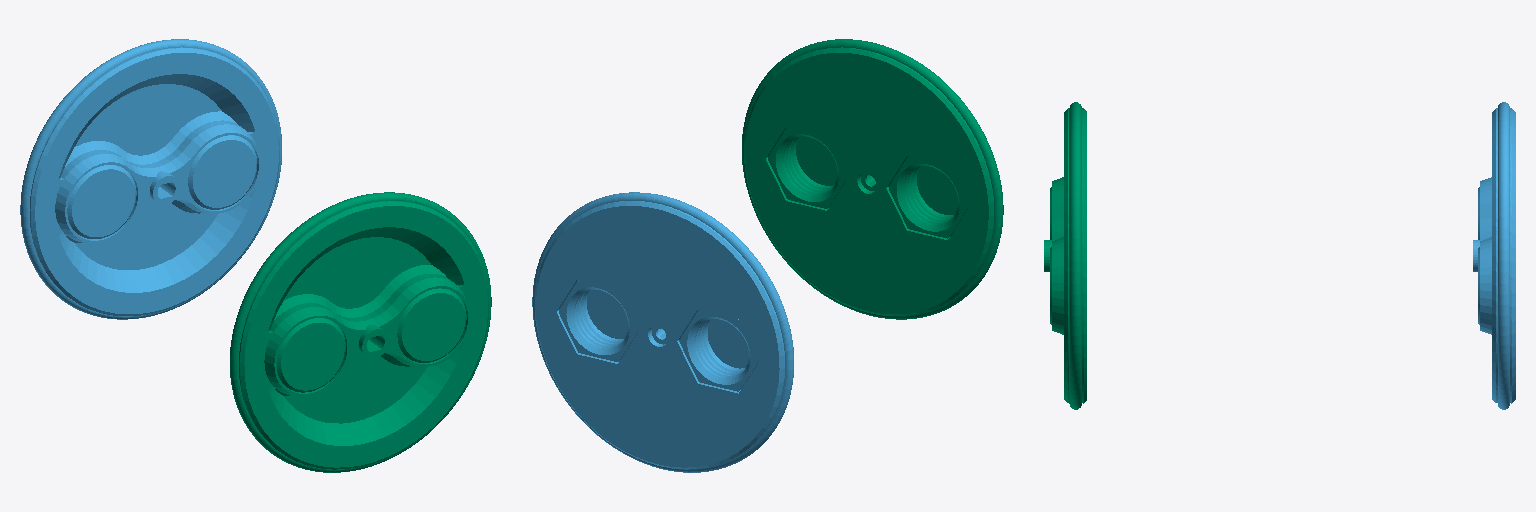
URDF robot description (golem):
<?xml version="1.0"?>
<robot name="golem">

    <link name="base_link">
        <inertial>
            <origin xyz="0 0 0" rpy="0 0 0"/>
            <mass value="0.01" />
            <inertia ixx="7.58333333333e-06" ixy="0.0" ixz="0.0" iyy="7.58333333333e-06" iyz="0.0" izz="1.25e-05"/>
        </inertial>
        <collision>
            <origin rpy="0 0 0" xyz="0 0 0"/>
            <geometry>
                <mesh filename="package://golem_description/models/golembase.dae"/>
            </geometry>
        </collision>
        <visual>
            <origin rpy="0 0 0" xyz="0 0 0"/>
            <geometry>
                <mesh filename="package://golem_description/models/golembase.dae"/>
            </geometry>
        </visual>
    </link>

    <link name="wheel_r1">
        <inertial>
            <origin xyz="0 0 0" rpy="0 0 0"/>
            <mass value="0.01" />
            <inertia ixx="7.58333333333e-06" ixy="0.0" ixz="0.0" iyy="7.58333333333e-06" iyz="0.0" izz="1.25e-05"/>
        </inertial>
        <collision>
            <origin rpy="0 0 0" xyz="0 0 0"/>
            <geometry>
                <mesh filename="package://golem_description/models/llanta2.dae"/>
            </geometry>
        </collision>
        <visual>
            <origin rpy="0 0 0" xyz="0 0 0"/>
            <geometry>
                <mesh filename="package://golem_description/models/llanta2.dae"/>
            </geometry>
        </visual>
    </link>

    <link name="wheel_l1">
        <inertial>
            <origin xyz="0 0 0" rpy="0 0 0"/>
            <mass value="0.01" />
            <inertia ixx="7.58333333333e-06" ixy="0.0" ixz="0.0" iyy="7.58333333333e-06" iyz="0.0" izz="1.25e-05"/>
        </inertial>
        <collision>
            <origin rpy="0 0 0" xyz="0 0 0"/>
            <geometry>
                <mesh filename="package://golem_description/models/llanta2.dae"/>
            </geometry>
        </collision>
        <visual>
            <origin rpy="0 0 0" xyz="0 0 0"/>
            <geometry>
                <mesh filename="package://golem_description/models/llanta2.dae"/>
            </geometry>
        </visual>
    </link>

    <joint name="motor1" type="continuous">
        <parent link="base_link"/>
        <child link="wheel_r1"/>
        <origin xyz="0.35 0.30 0.03" rpy="0 0 0"/>
        <limit effort="0.1" velocity="0.01"/>
        <axis xyz="0 1 0"/>
    </joint>

    <joint name="motor2" type="continuous">
        <parent link="base_link"/>
        <child link="wheel_l1"/>
        <origin xyz="0.35 -0.30 0.03" rpy="0 0 0"/>
        <limit effort="0.1" velocity="0.01"/>
        <axis xyz="0 1 0"/>
    </joint>

</robot>

--- What the picture shows (computed from the rendered views, not written in the file) ---
The picture shows the robot from 3 angles, left to right: view 1: azimuth 30°, elevation 25°; view 2: azimuth 150°, elevation 25°; view 3: azimuth 270°, elevation 25°; orthographic projection.
Model golem with 3 links and 2 joints (2 continuous), rooted at base_link, posed all joints at 0.
Visible links, largest first — view 1: wheel_r1, wheel_l1; view 2: wheel_r1, wheel_l1; view 3: wheel_r1, wheel_l1.
Link boxes in pixels (left/top/right/bottom): wheel_r1: left=20, top=39, right=281, bottom=319; wheel_l1: left=230, top=192, right=491, bottom=472; wheel_r1: left=532, top=192, right=793, bottom=472; wheel_l1: left=742, top=39, right=1003, bottom=319; wheel_r1: left=1473, top=102, right=1515, bottom=409; wheel_l1: left=1044, top=102, right=1086, bottom=409.
Size in the robot's own frame: 0.4307 by 0.66 by 0.431 metres.
2 mesh visuals loaded from 2 distinct referenced files (1 Collada DAE); not drawn: 1 (reference not matched to a file when rendering).